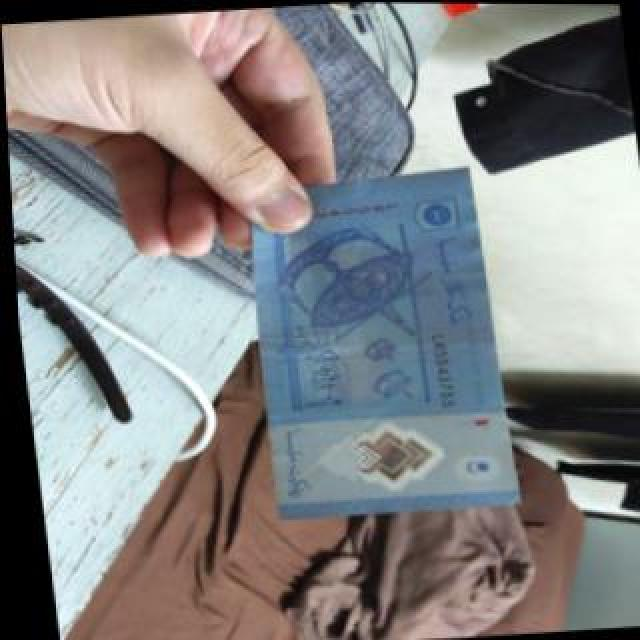1 Ringgit: (234, 150, 517, 520)
